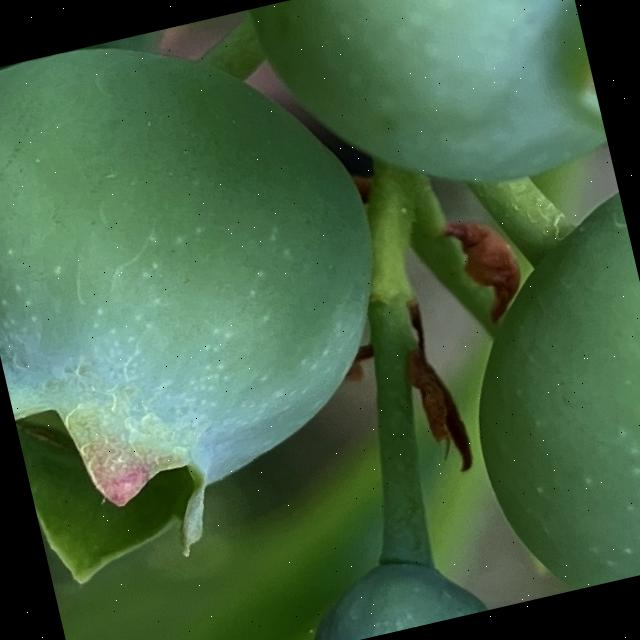Blueberries: (0, 0, 440, 601), (248, 0, 619, 262), (424, 164, 640, 603)
